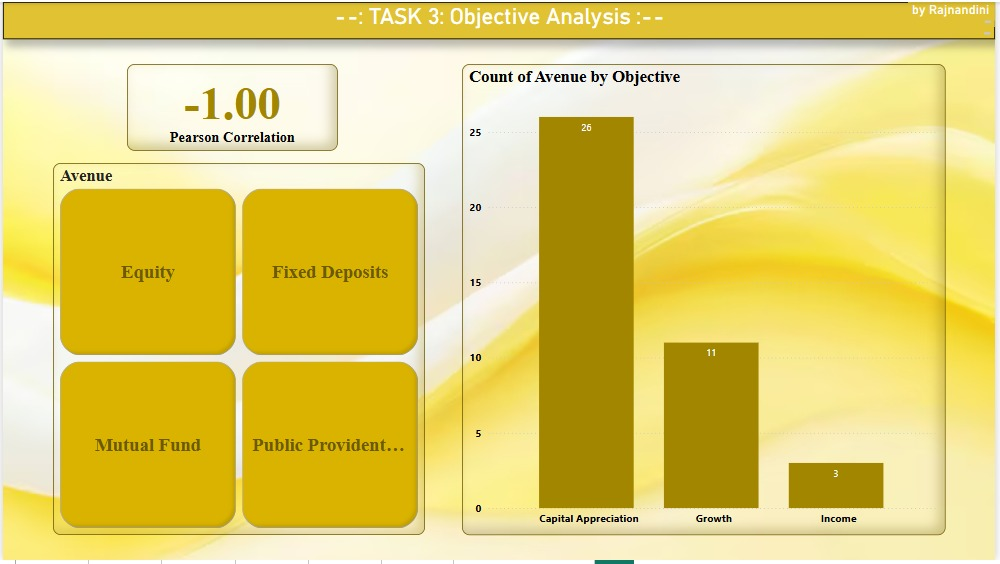

This screenshot's page, from the dashboard's own definition file:
{"tool":"powerbi","page":{"name":"Task 3","canvas":[1280,720],"ordinal":2},"visuals":[{"type":"textbox","title":"--: TASK 3: Objective Analysis :--","box":[0,0,1280,48],"z":0},{"type":"card","fields":{"Values":["Data_set 2.Pearson Correlation"]},"box":[160,80,272,112],"z":1000},{"type":"clusteredColumnChart","title":"Count of Avenue by Objective","fields":{"Y":["CountNonNull(Data_set 2.Avenue)"],"Category":["Data_set 2.Objective"]},"box":[592,80,624,608],"z":4000},{"type":"advancedSlicerVisual","title":"Avenue","fields":{"Values":["Data_set 2.Avenue"]},"box":[64,208,480,480],"z":5000},{"type":"textbox","title":"by Rajnandini","box":[1168,0,112,32],"z":6000}]}

Visuals, with their boxes in screenshot pixels (x1, y1, x2, y2), scaled from the page's 1280x720 canvas onto the 1000x564 screenshot:
"--: TASK 3: Objective Analysis :--" textbox: [0,0,999,38]
card - Data_set 2.Pearson Correlation: [125,63,338,150]
"Count of Avenue by Objective" clusteredColumnChart: [462,63,950,539]
"Avenue" advancedSlicerVisual: [50,163,425,539]
"by Rajnandini" textbox: [912,0,999,25]
